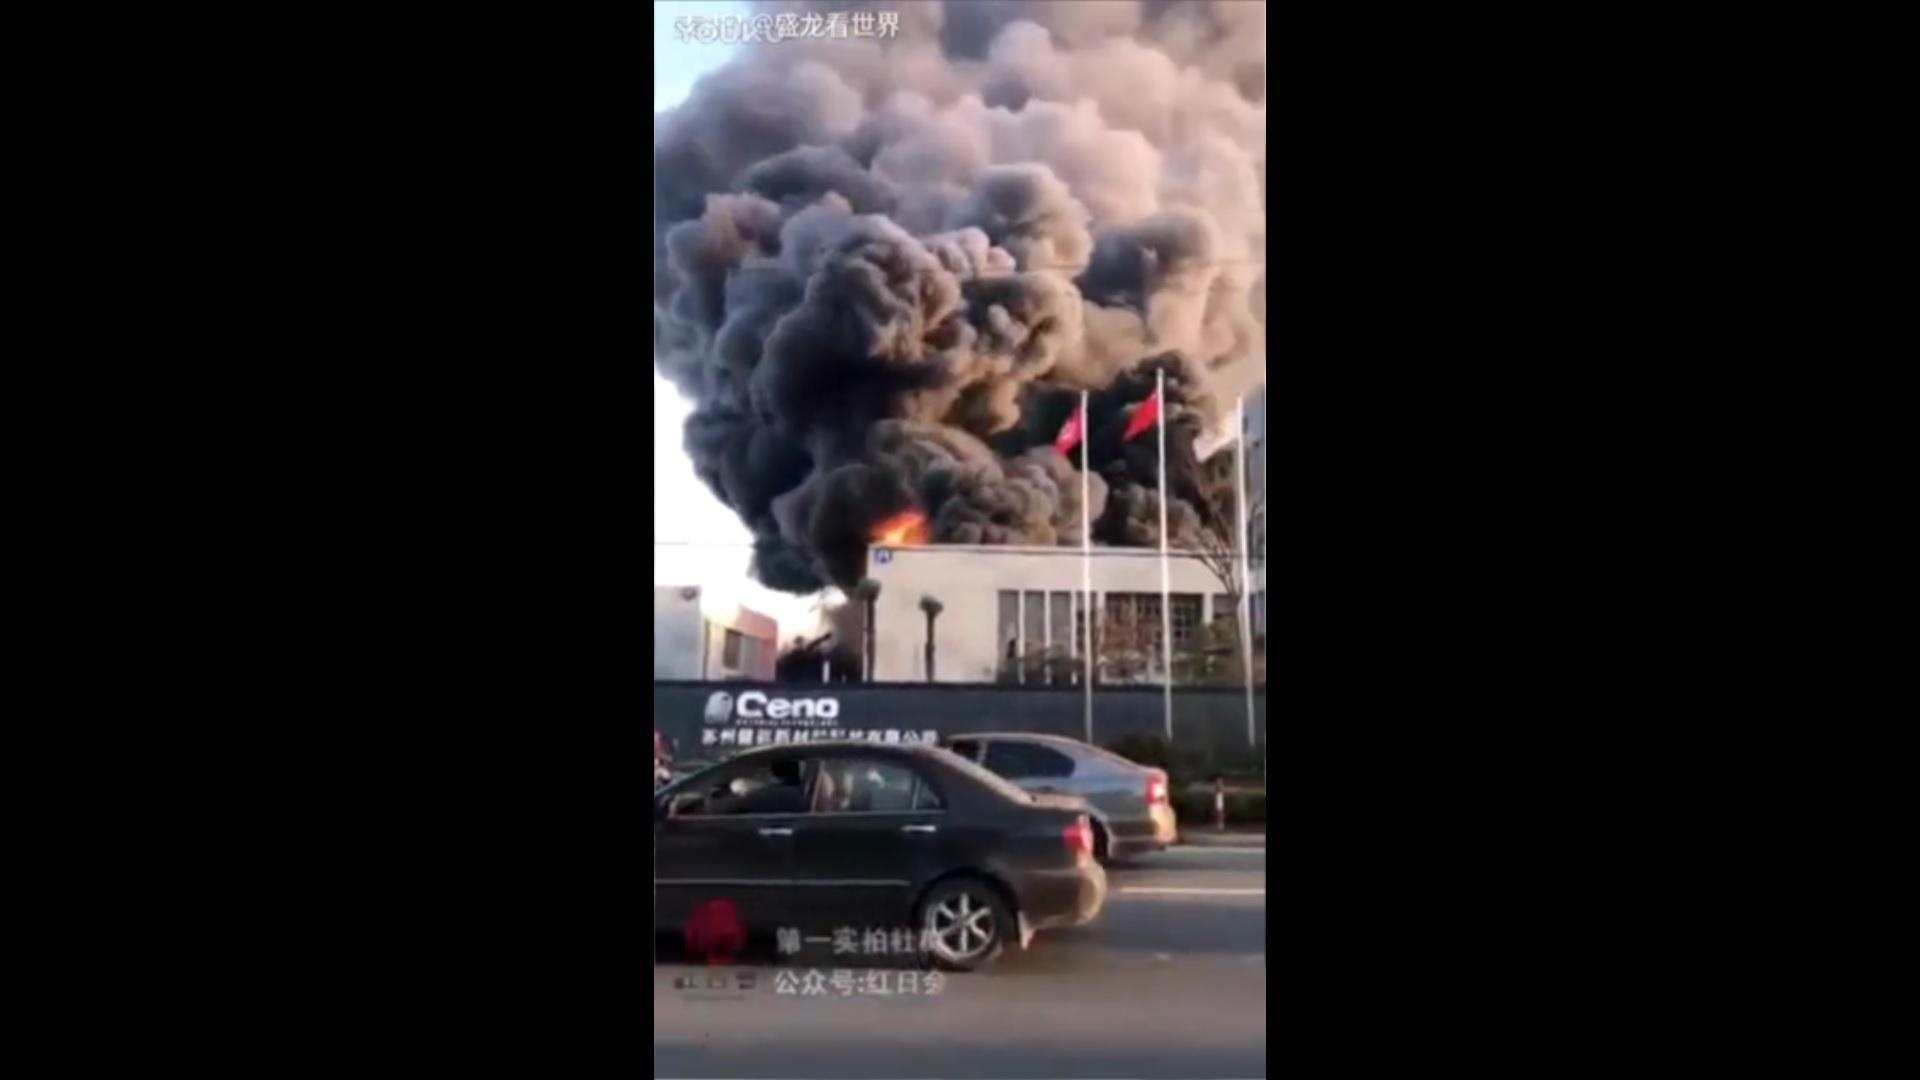fire: (872, 506, 928, 551)
